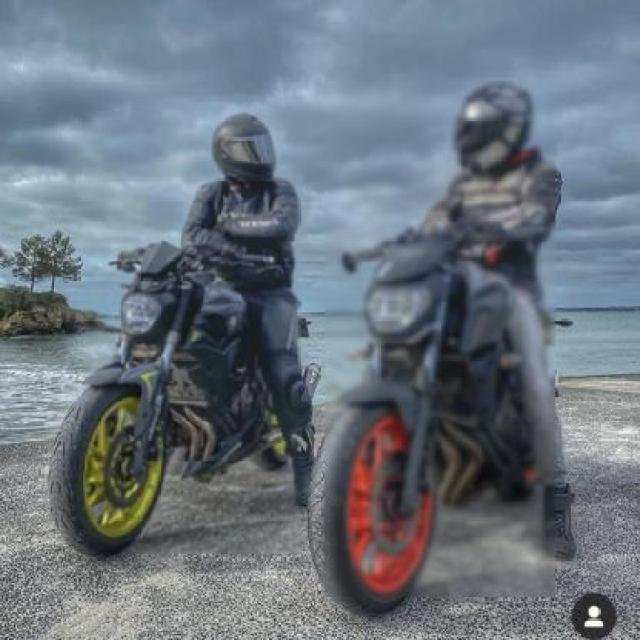helmet: (441, 62, 537, 184), (204, 100, 288, 200)
motorcycle: (312, 75, 606, 618), (48, 97, 323, 558)
